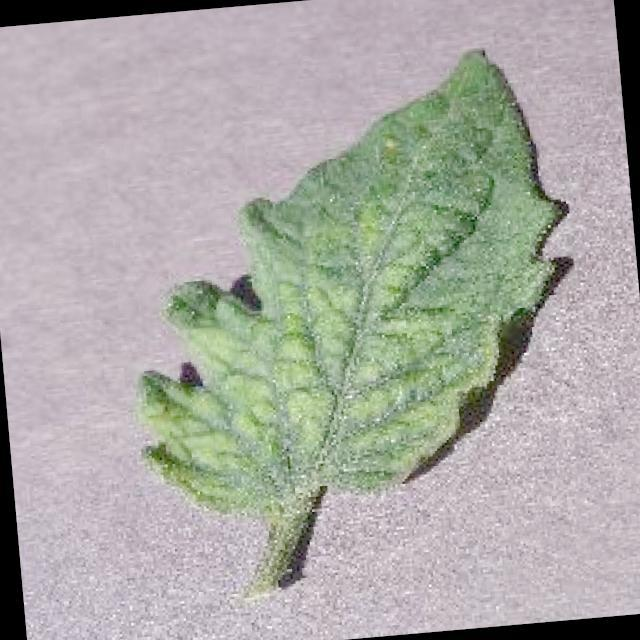Tomato mosaic virus leaf: (101, 37, 579, 524)
